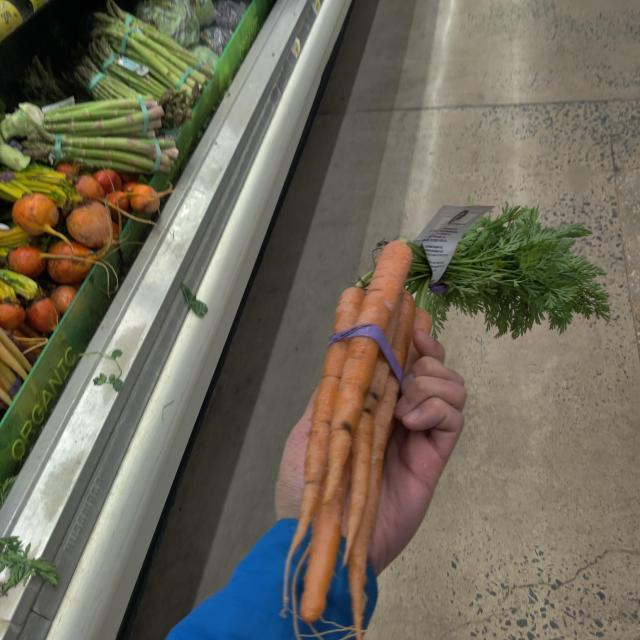Carrots: (302, 186, 626, 635)
